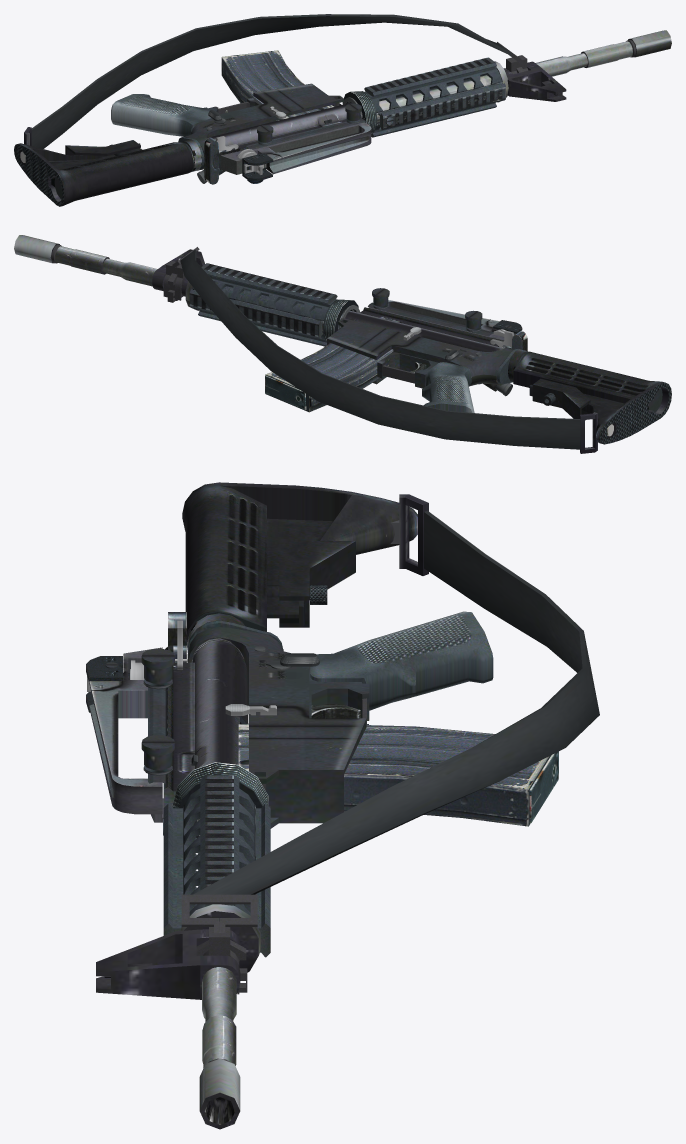
The model's file is M4_noHierarchy.dae.
The picture shows the model from 3 angles, top to bottom: view 1: azimuth 30°, elevation 25°; view 2: azimuth 150°, elevation 25°; view 3: azimuth 270°, elevation 25°; orthographic projection. The views are drawn at different scales.
Visible parts, largest first — view 1: Strap, Buttstock, Upper_Handguard, Barrel_Assembly, Lower_Receiver, Gun_Carrying_Handle, Pistol_Grip, Tube, Upper_Receiver, Compensator, Buttstock_Release_Lever, Charging_Handle (+3 smaller); view 2: Strap, Buttstock, Lower_Receiver, Lower_Handguard, Upper_Handguard, Tube, Barrel_Assembly, Upper_Receiver, Pistol_Grip, Buttstock_Release_Lever, Gun_Carrying_Handle, Compensator (+6 smaller); view 3: Strap, Buttstock, Lower_Receiver, Barrel_Assembly, Tube, Pistol_Grip, Upper_Receiver, Upper_Handguard, Gun_Carrying_Handle, Buttstock_Release_Lever, Lower_Handguard, Compensator (+9 smaller).
Part boxes in pixels (left/top/right/bottom): Strap: left=31, top=14, right=512, bottom=148; Buttstock: left=14, top=142, right=193, bottom=206; Upper_Handguard: left=364, top=57, right=505, bottom=137; Barrel_Assembly: left=377, top=41, right=632, bottom=121; Lower_Receiver: left=184, top=83, right=344, bottom=169; Gun_Carrying_Handle: left=220, top=122, right=371, bottom=174; Pistol_Grip: left=111, top=94, right=210, bottom=136; Tube: left=221, top=50, right=333, bottom=119; Upper_Receiver: left=207, top=102, right=364, bottom=175; Compensator: left=628, top=30, right=671, bottom=57; Buttstock_Release_Lever: left=65, top=140, right=140, bottom=155; Charging_Handle: left=204, top=137, right=226, bottom=184; Strap: left=180, top=249, right=580, bottom=449; Buttstock: left=513, top=351, right=671, bottom=444; Lower_Receiver: left=327, top=318, right=513, bottom=388; Lower_Handguard: left=189, top=278, right=328, bottom=339; Upper_Handguard: left=198, top=263, right=337, bottom=346; Tube: left=265, top=343, right=393, bottom=412; Barrel_Assembly: left=55, top=246, right=323, bottom=330; Upper_Receiver: left=337, top=307, right=503, bottom=391; Pistol_Grip: left=422, top=362, right=474, bottom=412; Buttstock_Release_Lever: left=532, top=378, right=590, bottom=420; Gun_Carrying_Handle: left=369, top=300, right=515, bottom=340; Compensator: left=14, top=235, right=59, bottom=263; Strap: left=193, top=510, right=599, bottom=894; Buttstock: left=182, top=482, right=417, bottom=647; Lower_Receiver: left=187, top=627, right=369, bottom=828; Barrel_Assembly: left=96, top=802, right=260, bottom=1067; Tube: left=238, top=724, right=551, bottom=826; Pistol_Grip: left=310, top=611, right=493, bottom=710; Upper_Receiver: left=163, top=638, right=270, bottom=807; Upper_Handguard: left=163, top=775, right=239, bottom=935; Gun_Carrying_Handle: left=89, top=647, right=163, bottom=822; Buttstock_Release_Lever: left=279, top=541, right=355, bottom=627; Lower_Handguard: left=234, top=788, right=270, bottom=957; Compensator: left=199, top=1058, right=240, bottom=1129.
Bounding box in the file's own units: 0.7566 × 0.095 × 0.2753.
16 materials, 15 textured.
